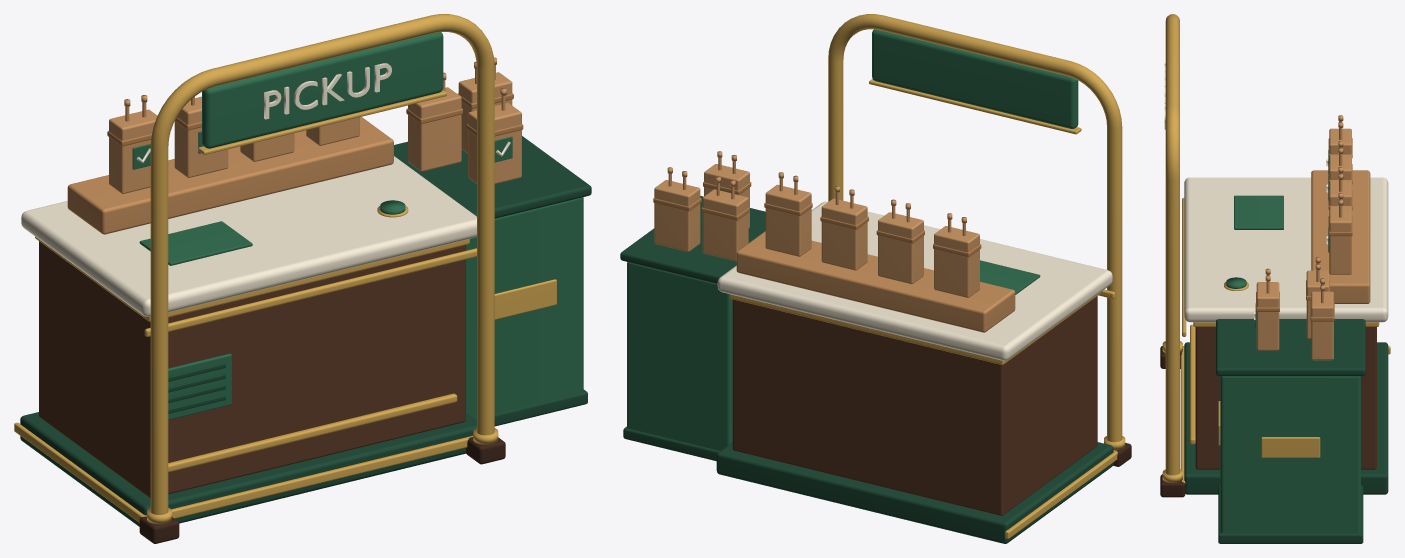
The model's file is pickup_desk.glb.
The picture shows the model from 3 angles, left to right: view 1: azimuth 30°, elevation 25°; view 2: azimuth 150°, elevation 25°; view 3: azimuth 270°, elevation 25°; orthographic projection. The views are drawn at different scales.
Parts seen in each view (by area): view 1: Body, Top, Arch, Cabinet, Sign, BackShelf, Plinth, CabinetTop, CabBag0, KickBrass, LipBrass, FrontRail (+16 smaller); view 2: Body, Cabinet, Top, Arch, Sign, Plinth, BackShelf, CabinetTop, Bag3, Bag2, CabBag1, Bag0 (+8 smaller); view 3: Cabinet, Top, CabinetTop, Arch, Body, BackShelf, Plinth, CabinetKick, Mat, CabBag2, CabBag1, Bag3 (+9 smaller).
Boxes of the visible parts, box(x1,y1,x2,y2) form: Body: box(39, 241, 465, 498); Top: box(21, 156, 476, 316); Arch: box(150, 14, 494, 514); Cabinet: box(466, 197, 583, 418); Sign: box(202, 32, 443, 148); BackShelf: box(67, 117, 393, 234); Plinth: box(20, 412, 476, 526); CabinetTop: box(394, 136, 591, 218); CabBag0: box(408, 87, 461, 171); KickBrass: box(145, 435, 473, 518); LipBrass: box(144, 248, 476, 336); FrontRail: box(168, 393, 457, 472); Body: box(732, 296, 1097, 515); Cabinet: box(627, 262, 732, 450); Top: box(717, 201, 1112, 360); Arch: box(828, 14, 1122, 442); Sign: box(872, 29, 1078, 128); Plinth: box(716, 442, 1113, 543); BackShelf: box(736, 231, 1015, 332); CabinetTop: box(620, 196, 765, 283); Bag3: box(765, 184, 811, 256); Bag2: box(821, 198, 867, 270); CabBag1: box(654, 180, 700, 251); Bag0: box(934, 226, 979, 297); Cabinet: box(1220, 376, 1360, 533); Top: box(1184, 177, 1388, 322); CabinetTop: box(1216, 319, 1365, 376); Arch: box(1165, 14, 1179, 475); Body: box(1195, 327, 1376, 469); BackShelf: box(1311, 170, 1370, 303); Plinth: box(1184, 342, 1388, 494); CabinetKick: box(1218, 485, 1363, 543); Mat: box(1234, 195, 1283, 229); CabBag2: box(1256, 282, 1279, 350); CabBag1: box(1311, 291, 1333, 360); Bag3: box(1329, 206, 1351, 274).
Bounding box in the file's own units: 1.95 × 1.78 × 1.02.
